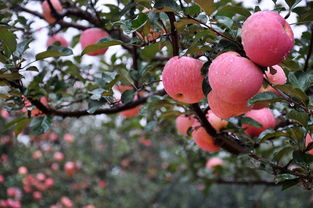apple: (239, 10, 298, 66), (204, 51, 266, 100)
obscured(1)_apple: (160, 54, 213, 105)
